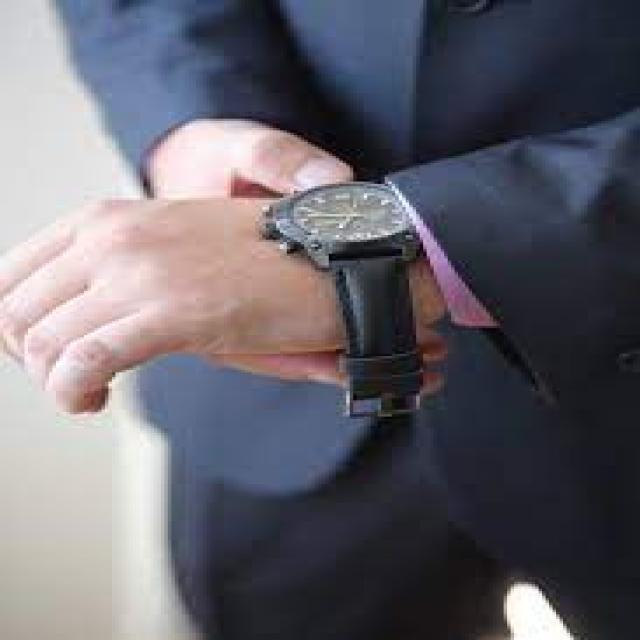Watch: (257, 176, 443, 428)
